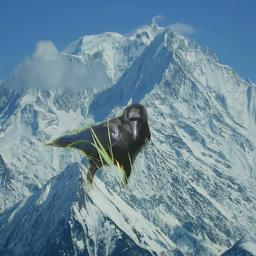Crow: (41, 103, 151, 190)
